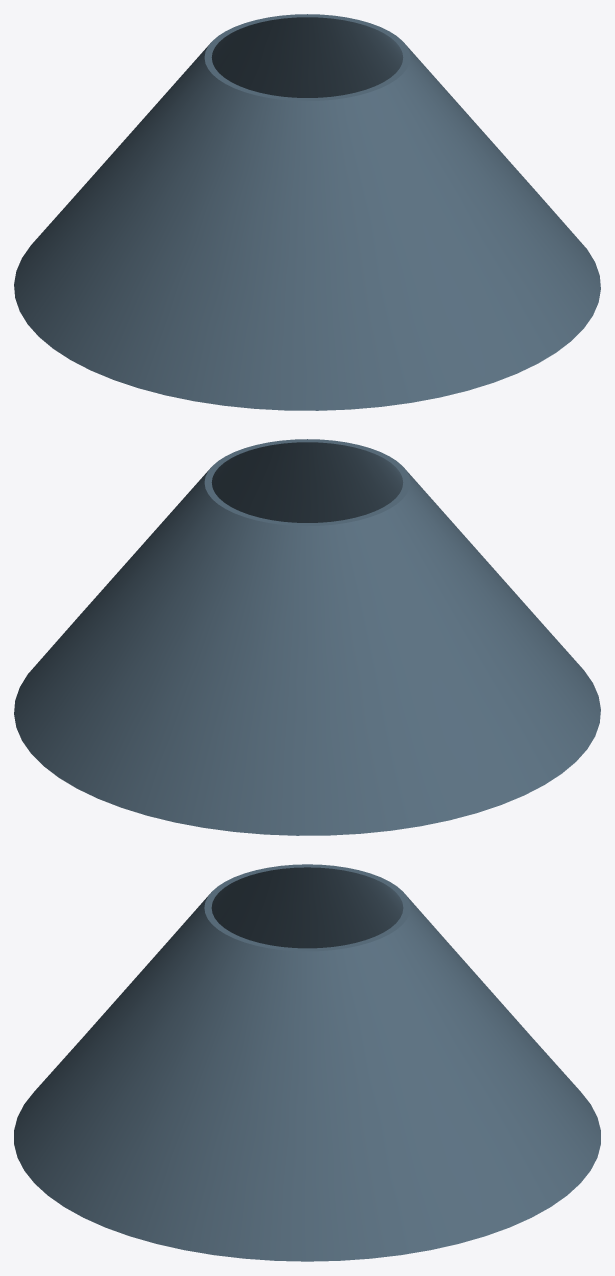
The model's file is perehod-325x8-114x4-L140.glb.
3 views of the same model, one above another, from view 1: azimuth 30°, elevation 25°; view 2: azimuth 150°, elevation 25°; view 3: azimuth 270°, elevation 25° (orthographic).
Parts seen in each view (by area): view 1: Open CASCADE STEP translator 7.9 52; view 2: Open CASCADE STEP translator 7.9 52; view 3: Open CASCADE STEP translator 7.9 52.
Part boxes in pixels (x1,y1,x2,y2): Open CASCADE STEP translator 7.9 52: (14, 14, 600, 410); Open CASCADE STEP translator 7.9 52: (14, 439, 600, 835); Open CASCADE STEP translator 7.9 52: (14, 864, 600, 1261).
Size of the model in its own units: 325 by 140 by 325.
